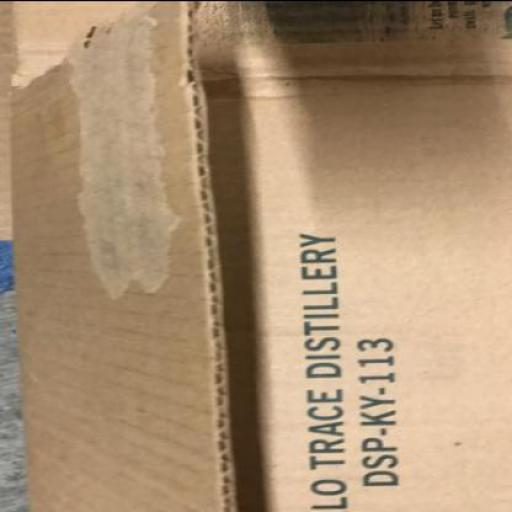cardboard: (0, 1, 512, 511), (25, 1, 230, 511)
